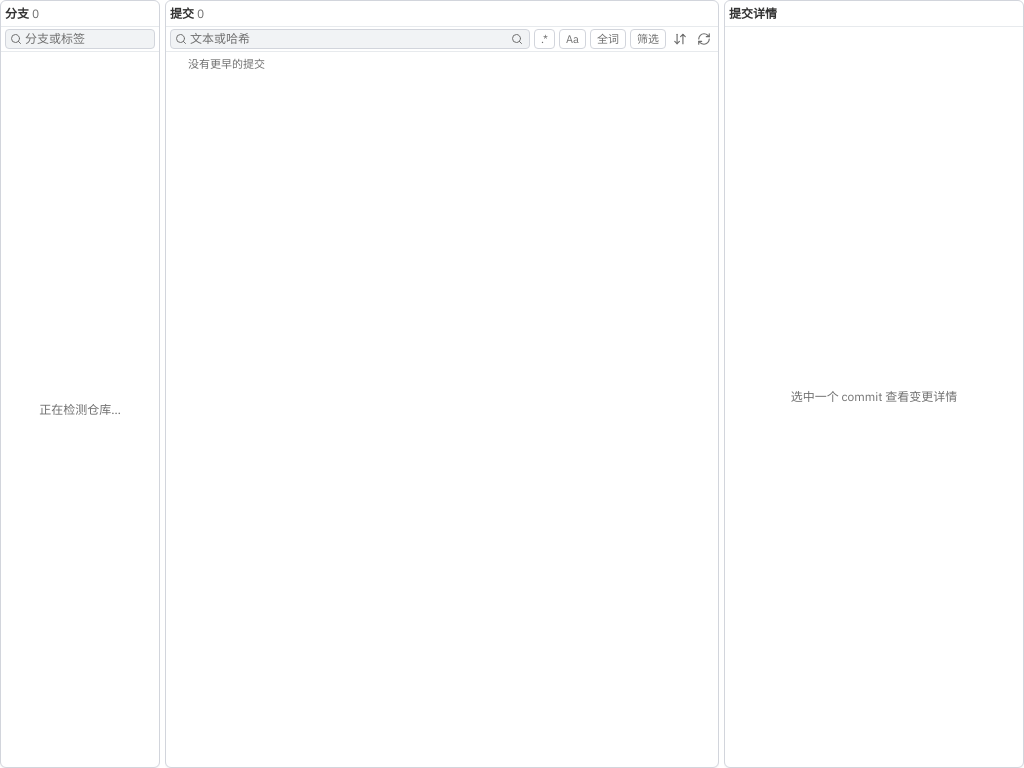
Test: GitLogPanel 作者下拉过滤 › 键盘可达：ArrowDown 高亮 + Enter 选中追加 + Esc 关闭
Click the button "筛选": (648, 39) [630,29,666,49]
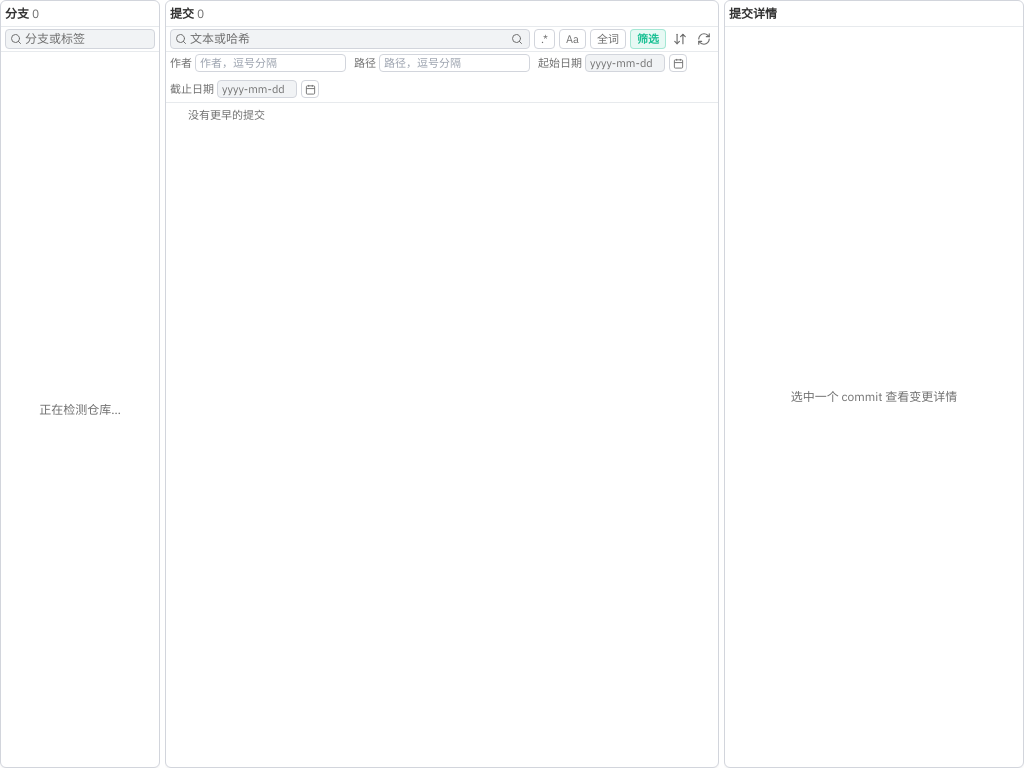
Focus the dropdown with placeholder "作者，逗号分隔": (270, 63) [195,54,346,72]
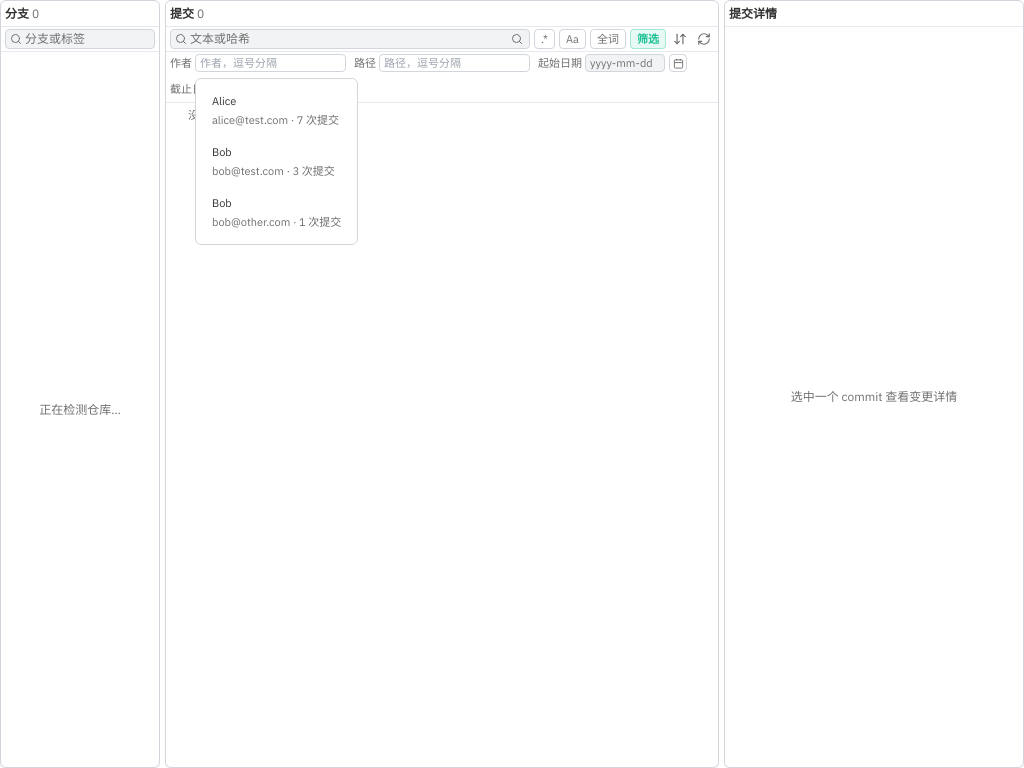
Now the text "Alice" is shown, box [212,94,236,108]
Press ArrowDown in the dropdown with placeholder "作者，逗号分隔", box [195,54,346,72]
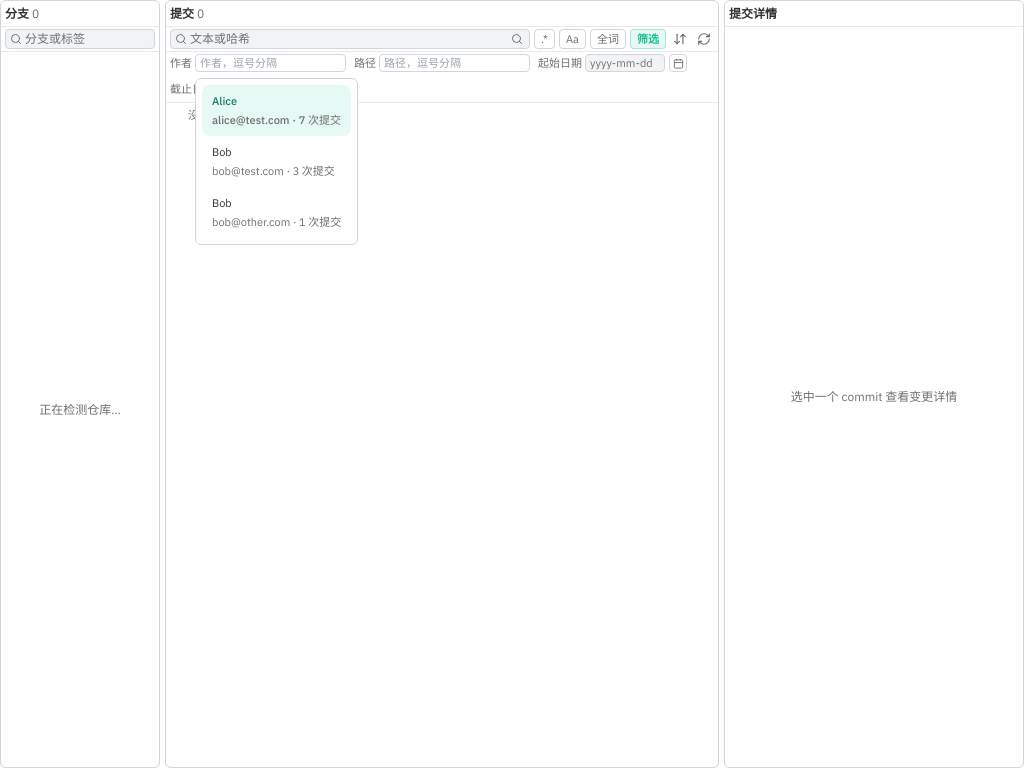
Press Enter in the dropdown with placeholder "作者，逗号分隔", box [195,54,346,72]
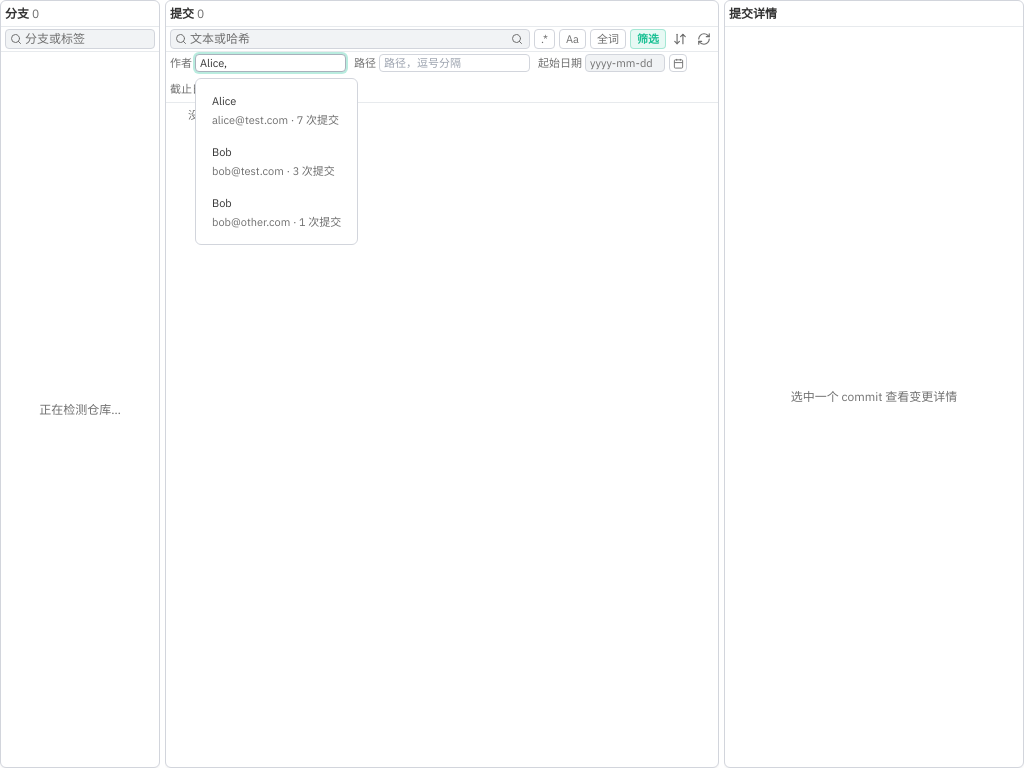
Now the dropdown with placeholder "作者，逗号分隔" holds "Alice, "
Press Escape in the dropdown with placeholder "作者，逗号分隔", box [195,54,346,72]
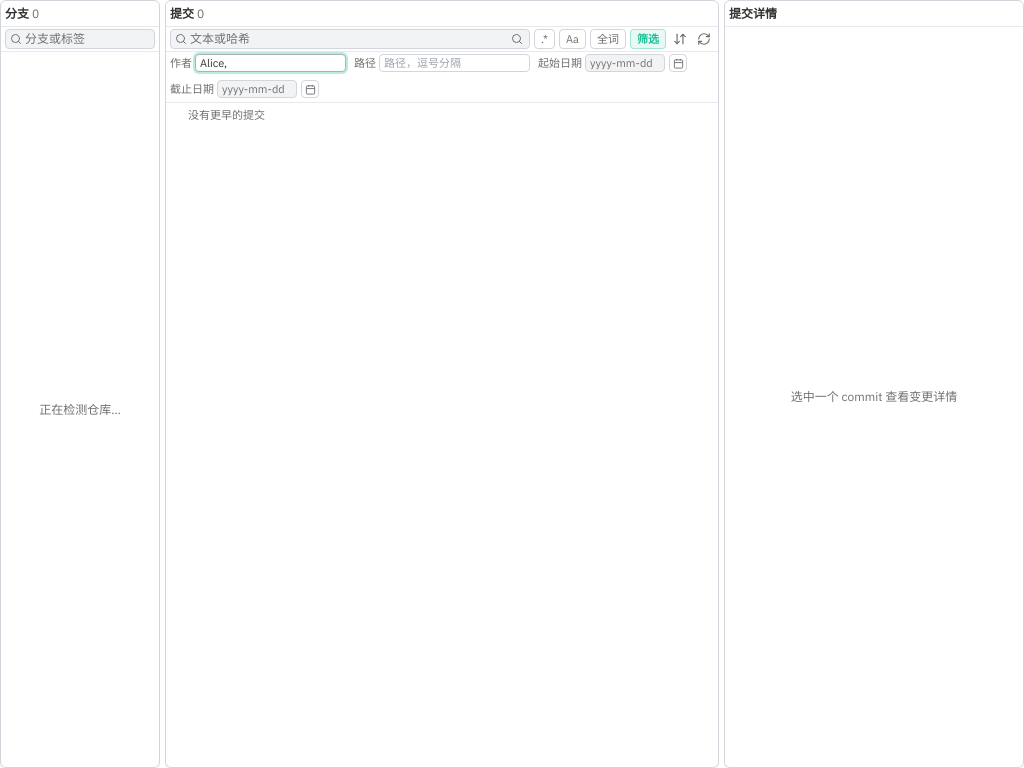
Now the list is gone
